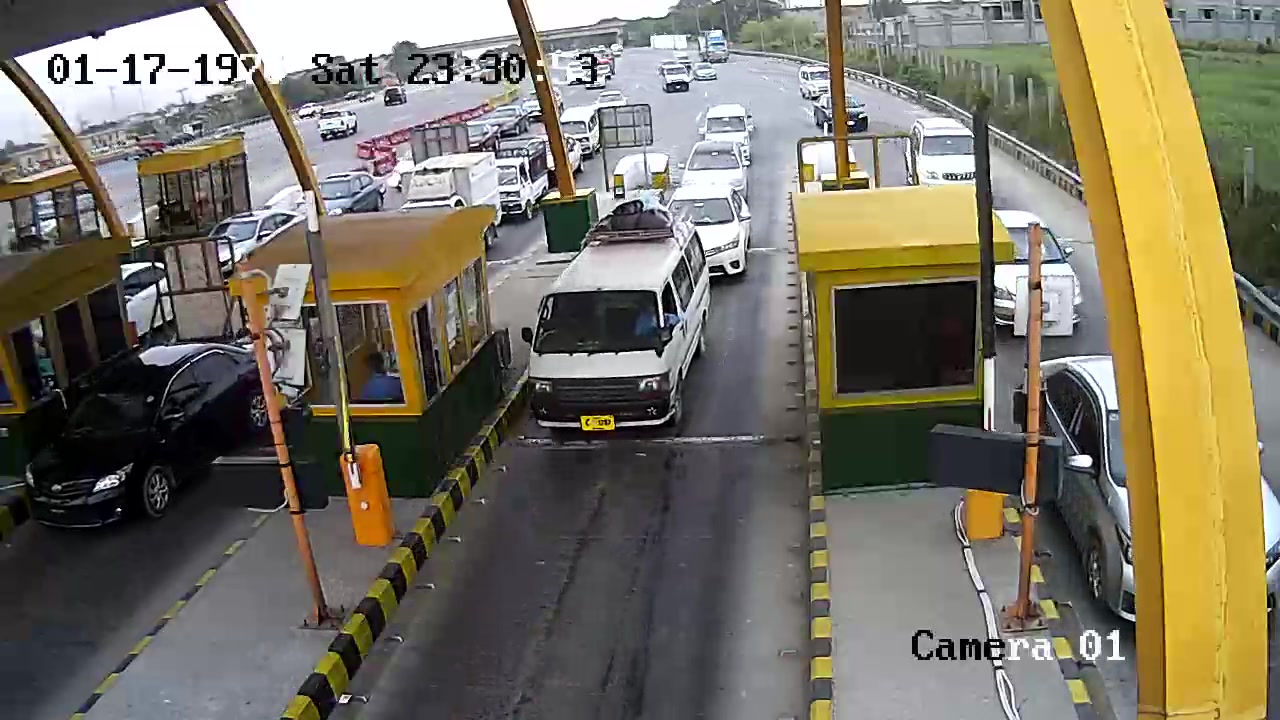F2: (525, 195, 722, 444)
